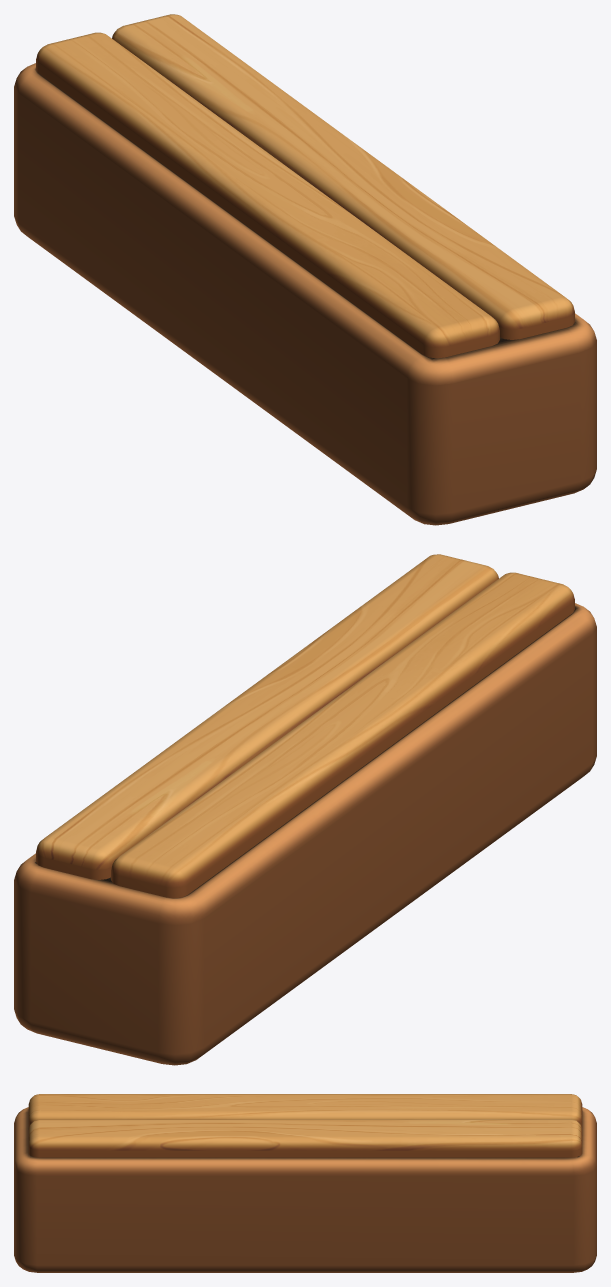
File: WoodenBox_1x4.fbx
The picture shows the model from 3 angles, top to bottom: view 1: azimuth 30°, elevation 25°; view 2: azimuth 150°, elevation 25°; view 3: azimuth 270°, elevation 25°; orthographic projection. The views are drawn at different scales.
Visible parts, largest first — view 1: box1x4; view 2: box1x4; view 3: box1x4.
Boxes of the visible parts, x1=… form: box1x4: x1=14, y1=14, x2=596, y2=525; box1x4: x1=14, y1=554, x2=596, y2=1065; box1x4: x1=14, y1=1094, x2=596, y2=1272.
Bounding box in the file's own units: 1.02 × 0.9929 × 4.02.
